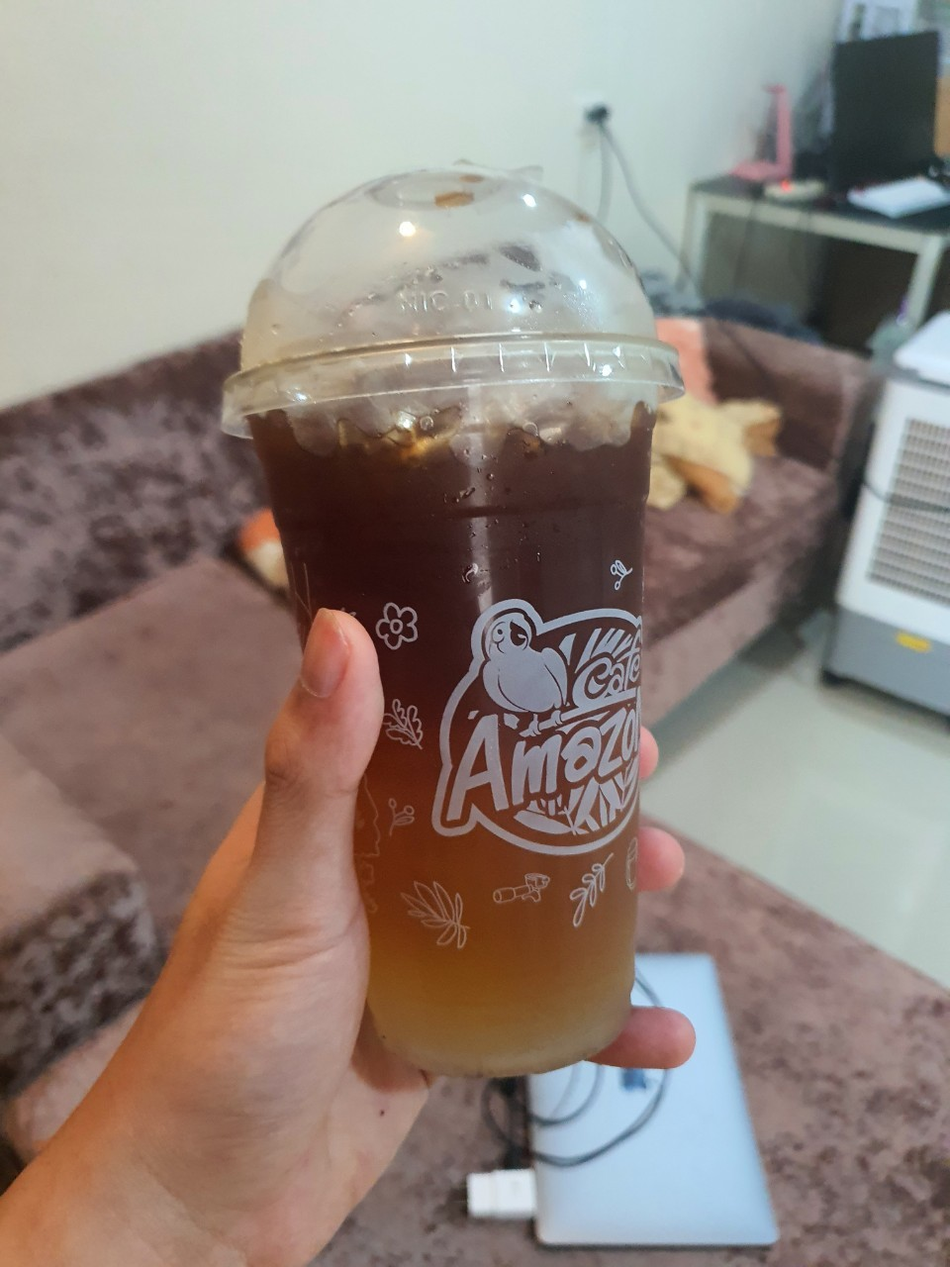plastic: (196, 151, 693, 1092)
